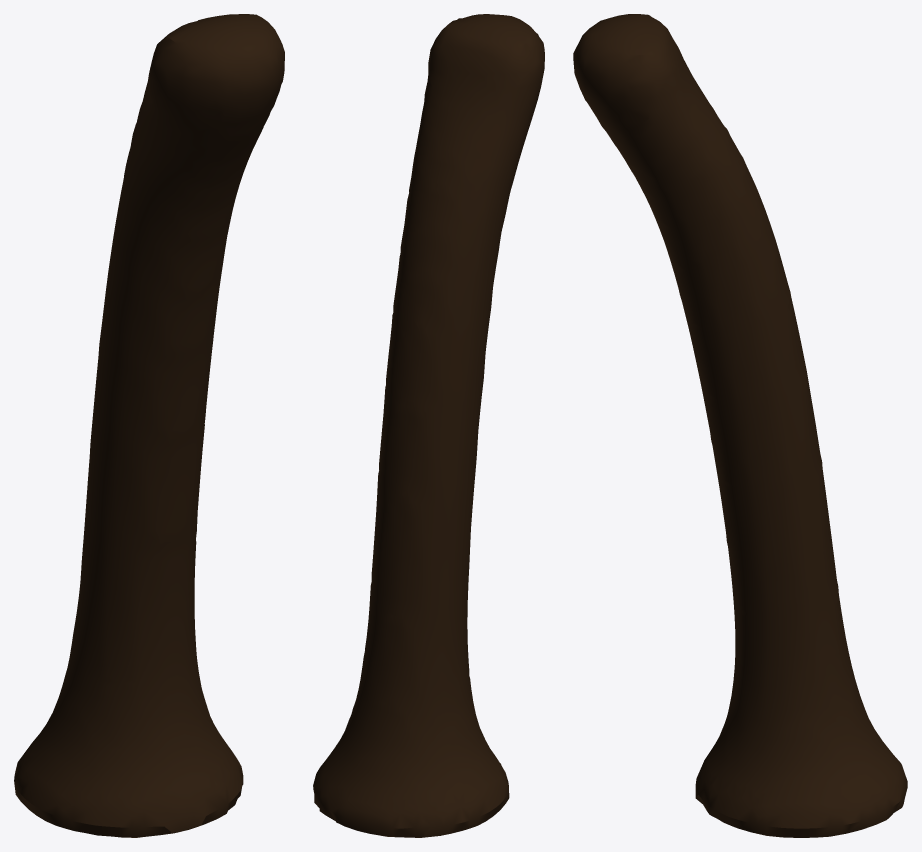
The model's file is BigStem1.fbx.
3 renders of one model, left to right at view 1: azimuth 30°, elevation 25°; view 2: azimuth 150°, elevation 25°; view 3: azimuth 270°, elevation 25°, orthographic. The views are drawn at different scales.
Parts seen in each view (by area): view 1: BigStem.001; view 2: BigStem.001; view 3: BigStem.001.
Boxes of the visible parts, left/top/right/bottom form: BigStem.001: left=14, top=14, right=284, bottom=837; BigStem.001: left=313, top=14, right=544, bottom=837; BigStem.001: left=573, top=14, right=907, bottom=837.
Size of the model in its own units: 399 by 1642 by 637.
